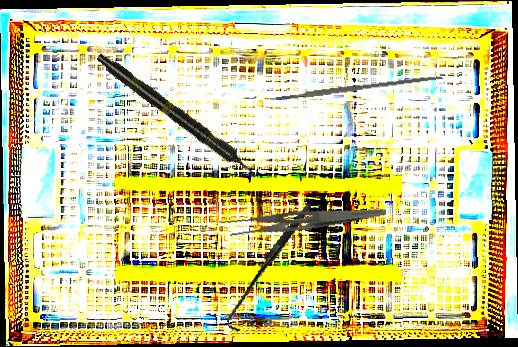Dressing Forceps: (217, 189, 388, 246)
Handpiece: (93, 49, 262, 183)
Hook Surgical: (203, 203, 338, 334)
Scalpel Handle: (275, 73, 443, 102)
